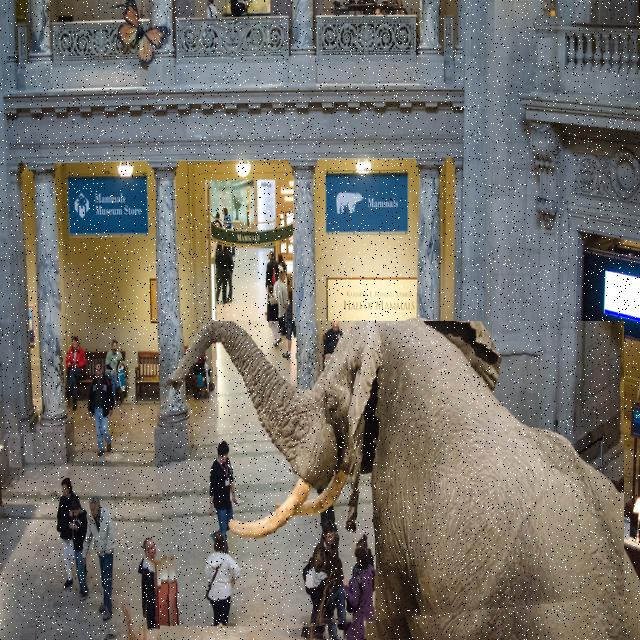elephant: (161, 321, 624, 640)
